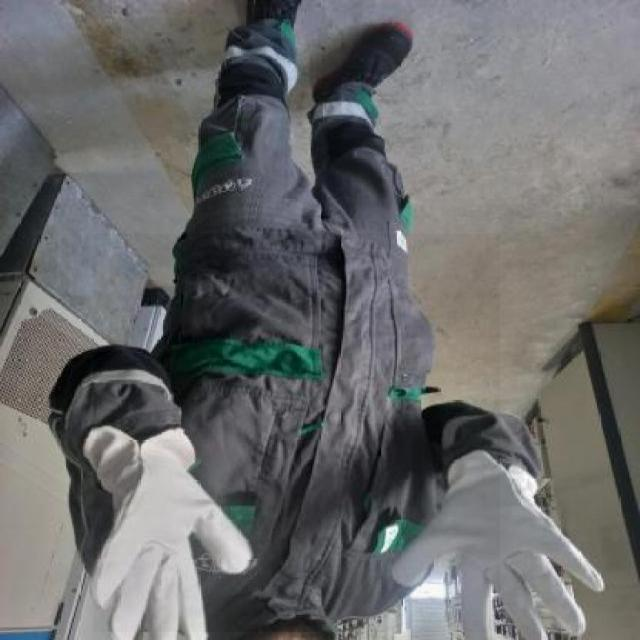Helmet: (94, 234, 500, 632)
